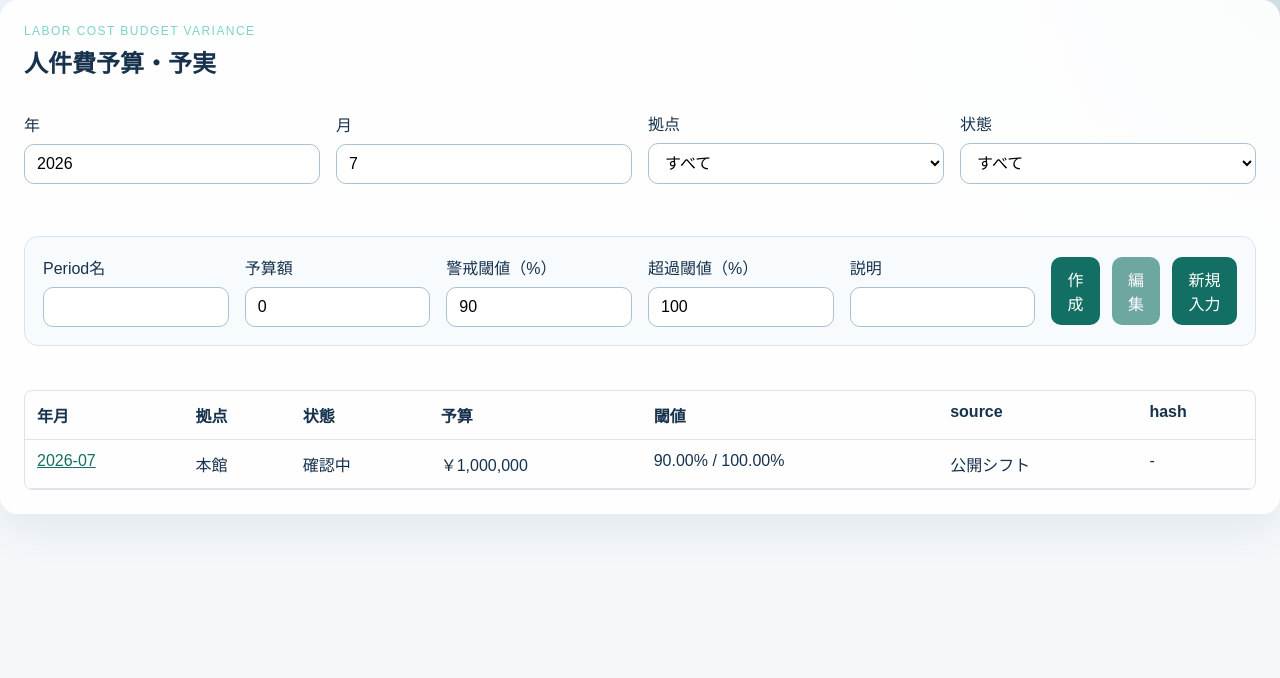
LaborCost pages › manages labor budgets, shows variance labels, requires warning acknowledgement, and exports CSV
Expected: the heading "人件費予算・予実" is shown, 24,50 -> 216,77
Click the button "2026-07" at (66,461), box 37,452 -> 96,470
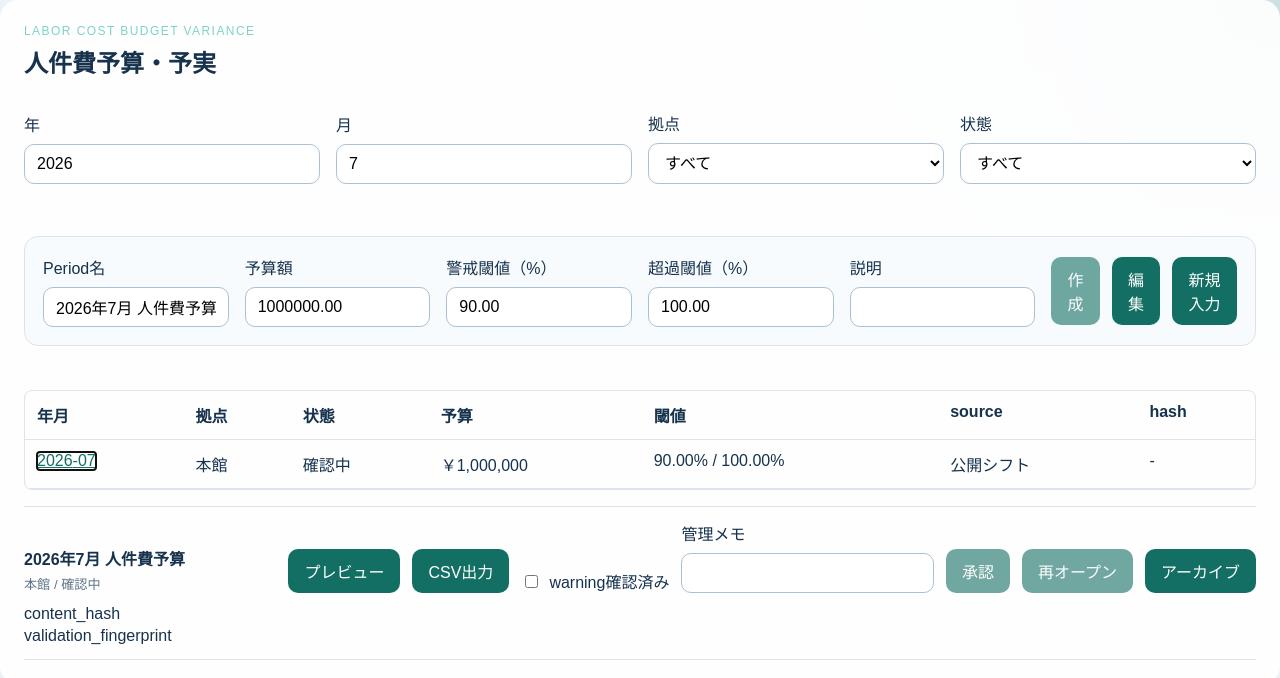
Click the button "プレビュー" at (344,571), box 288,549 -> 400,593
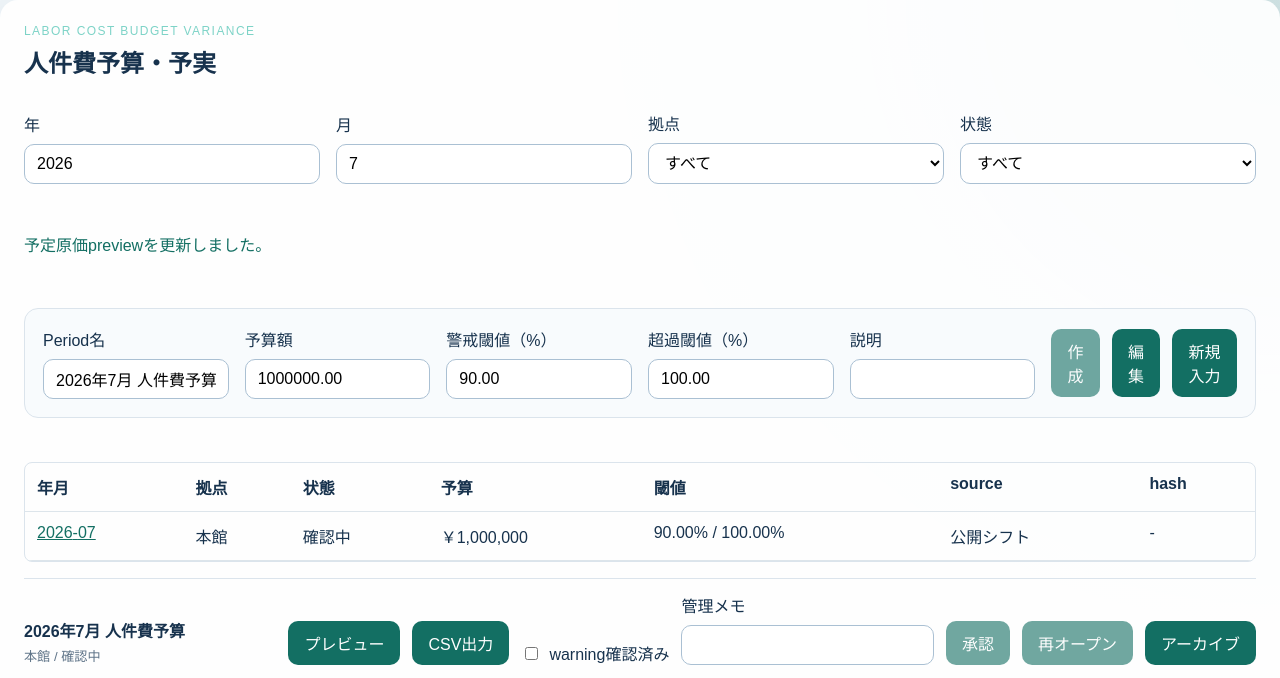
Result: the button "承認" is disabled at 946,621 -> 1010,665
Click the checkbox labelled "warning確認済み" at (532,653), box 525,646 -> 538,660
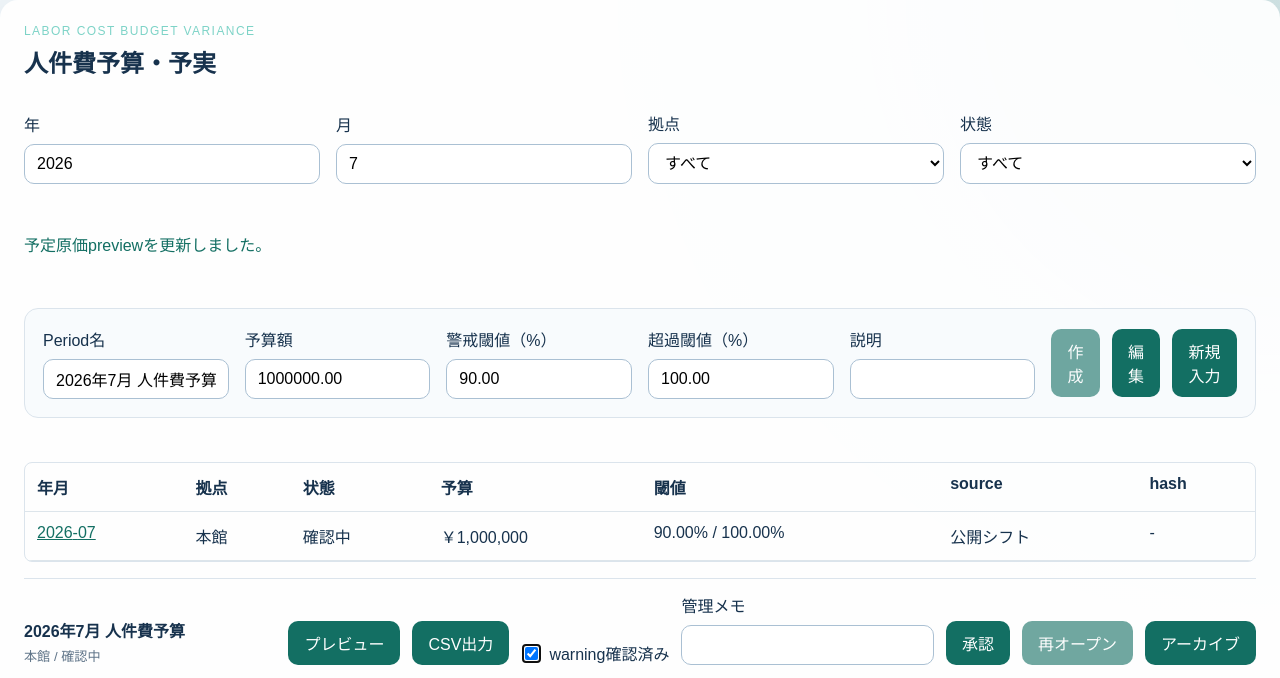
Result: the button "承認" is enabled
Click the button "承認" at (978,643), box 946,621 -> 1010,665
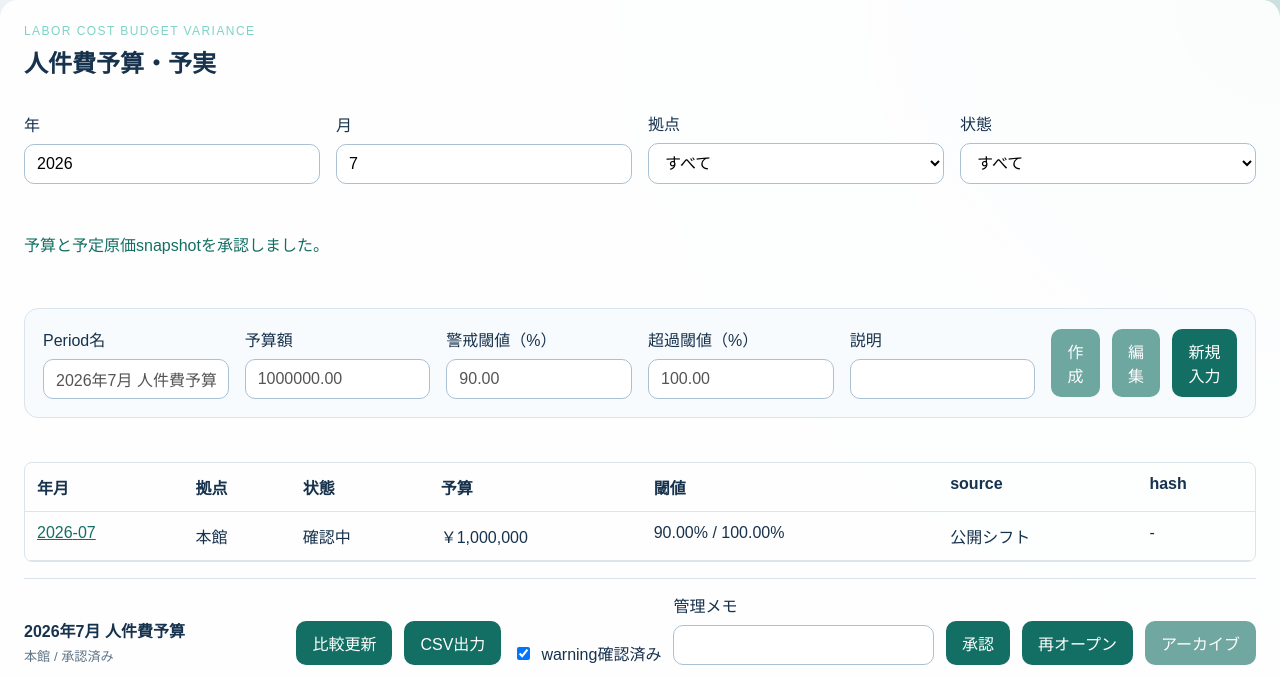
Click the button "CSV出力" at (453,643), box 404,621 -> 501,665
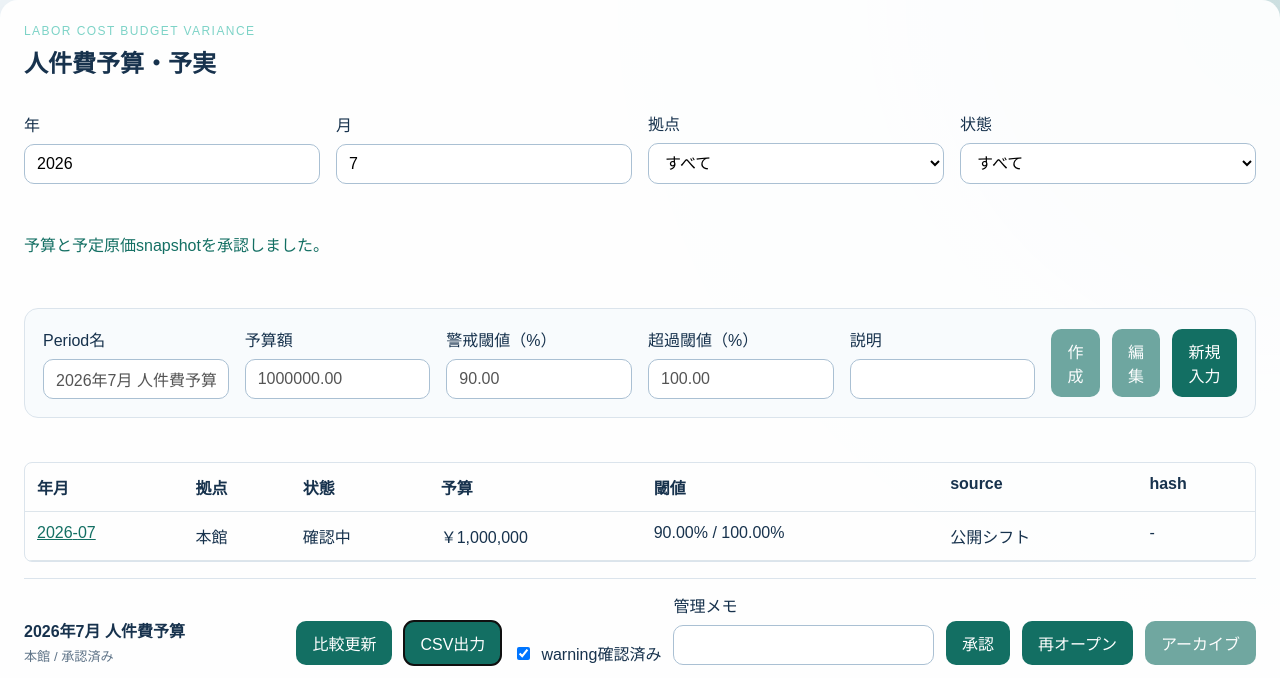
Select "本館" in the dropdown labelled "拠点" at (796,164), box 648,143 -> 944,184
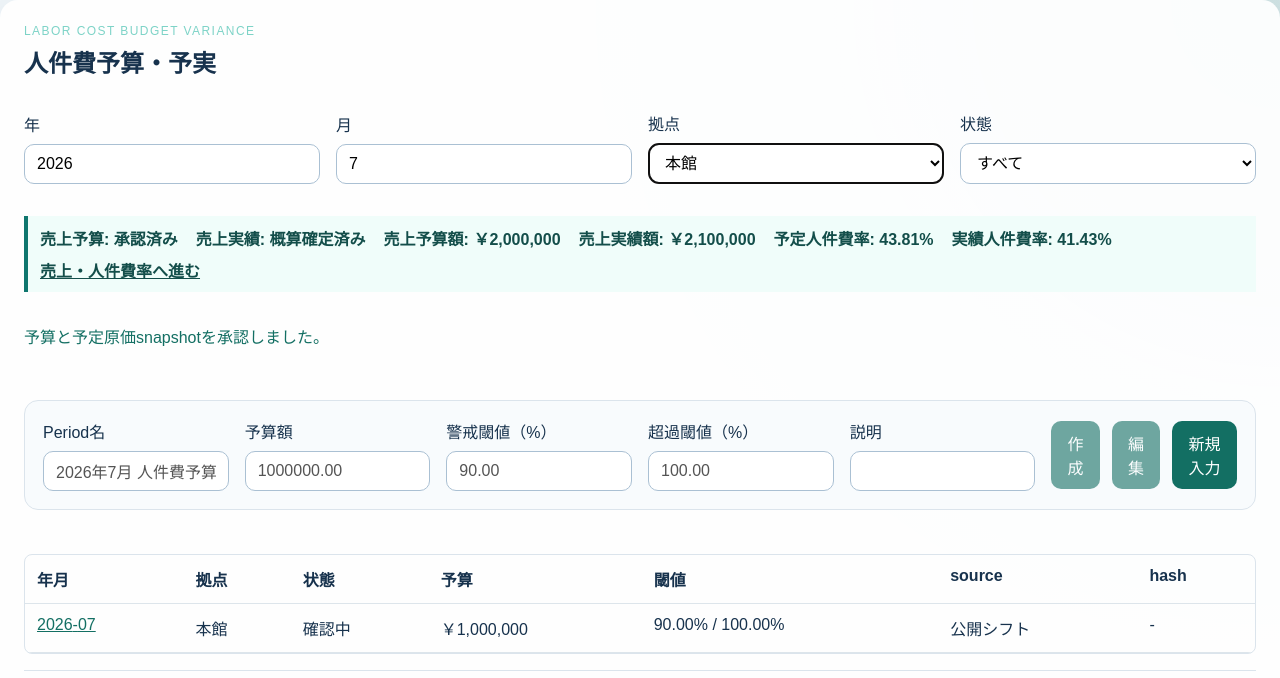
Result: the text "予定人件費率: 43.81%" is shown at 774,226 -> 934,250
